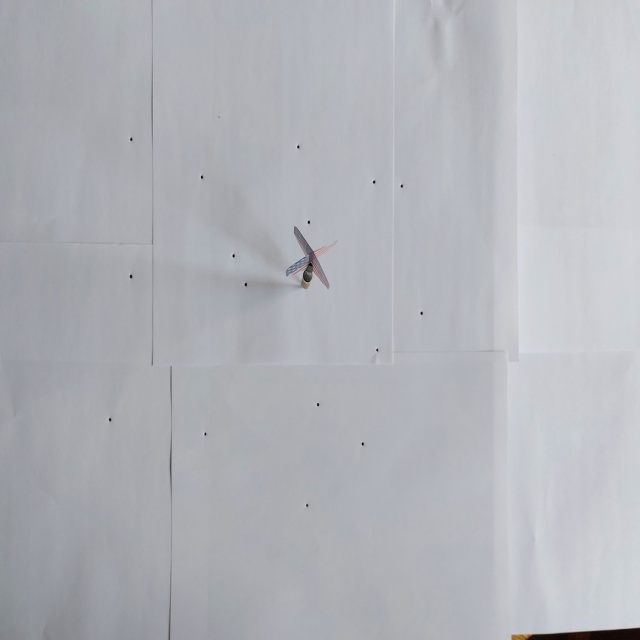Dart: (280, 223, 341, 296)
